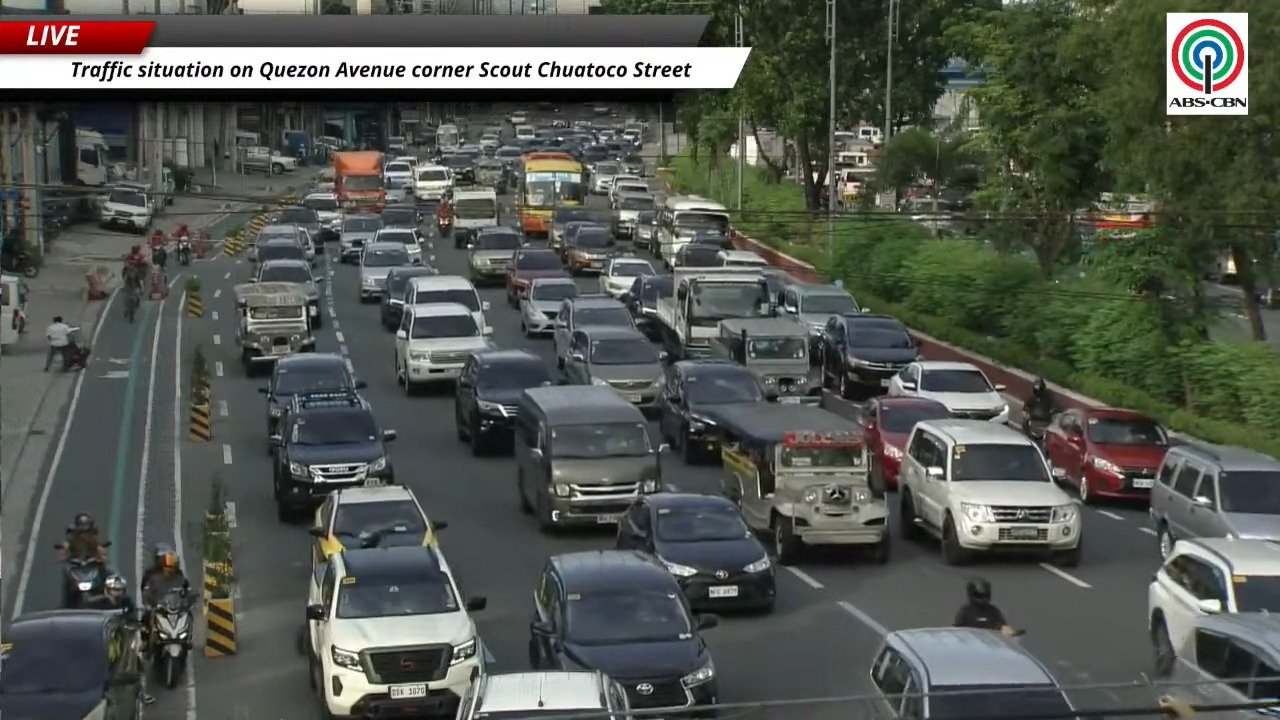bus: (517, 153, 586, 237)
car: (305, 546, 486, 717), (530, 550, 718, 711), (898, 418, 1083, 566), (870, 627, 1076, 719), (616, 492, 775, 610), (1147, 538, 1279, 676), (269, 391, 395, 522), (0, 610, 148, 719), (1149, 443, 1279, 556), (1043, 408, 1170, 503), (1167, 612, 1279, 717), (309, 486, 446, 567), (658, 360, 766, 462), (454, 349, 552, 455), (394, 302, 492, 394), (857, 396, 950, 489), (259, 353, 364, 435), (821, 313, 919, 398), (456, 671, 628, 719), (562, 326, 663, 406), (887, 360, 1009, 423), (552, 295, 634, 369), (779, 284, 862, 356), (403, 274, 492, 334), (253, 259, 324, 328), (505, 247, 568, 307), (519, 277, 580, 338), (380, 265, 437, 330), (620, 274, 673, 339), (359, 241, 413, 302), (468, 226, 523, 284), (272, 199, 323, 253), (548, 206, 610, 248), (100, 186, 154, 234), (250, 222, 315, 261), (552, 219, 606, 264), (598, 256, 655, 298), (566, 226, 615, 274), (339, 214, 381, 263), (614, 192, 654, 241), (302, 192, 342, 241), (372, 226, 423, 263), (253, 237, 311, 264), (610, 173, 651, 208), (415, 164, 451, 201), (632, 209, 659, 258), (440, 153, 474, 188), (383, 160, 413, 198), (673, 244, 720, 268), (379, 204, 421, 228), (759, 267, 791, 297), (590, 162, 620, 194), (689, 229, 735, 249), (717, 249, 768, 267), (494, 145, 522, 168), (582, 142, 608, 165), (620, 155, 645, 177), (479, 132, 500, 153), (508, 111, 527, 124)
motorcycle: (149, 590, 192, 688), (63, 557, 106, 608), (1020, 401, 1055, 445), (0, 250, 38, 277), (177, 237, 191, 265)
truck: (655, 267, 775, 358), (332, 151, 385, 210), (75, 127, 109, 186), (238, 145, 298, 175)
